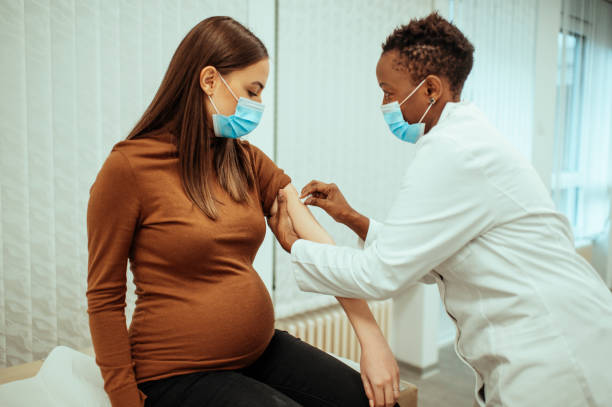with mask: (183, 15, 275, 136), (373, 23, 465, 144)
